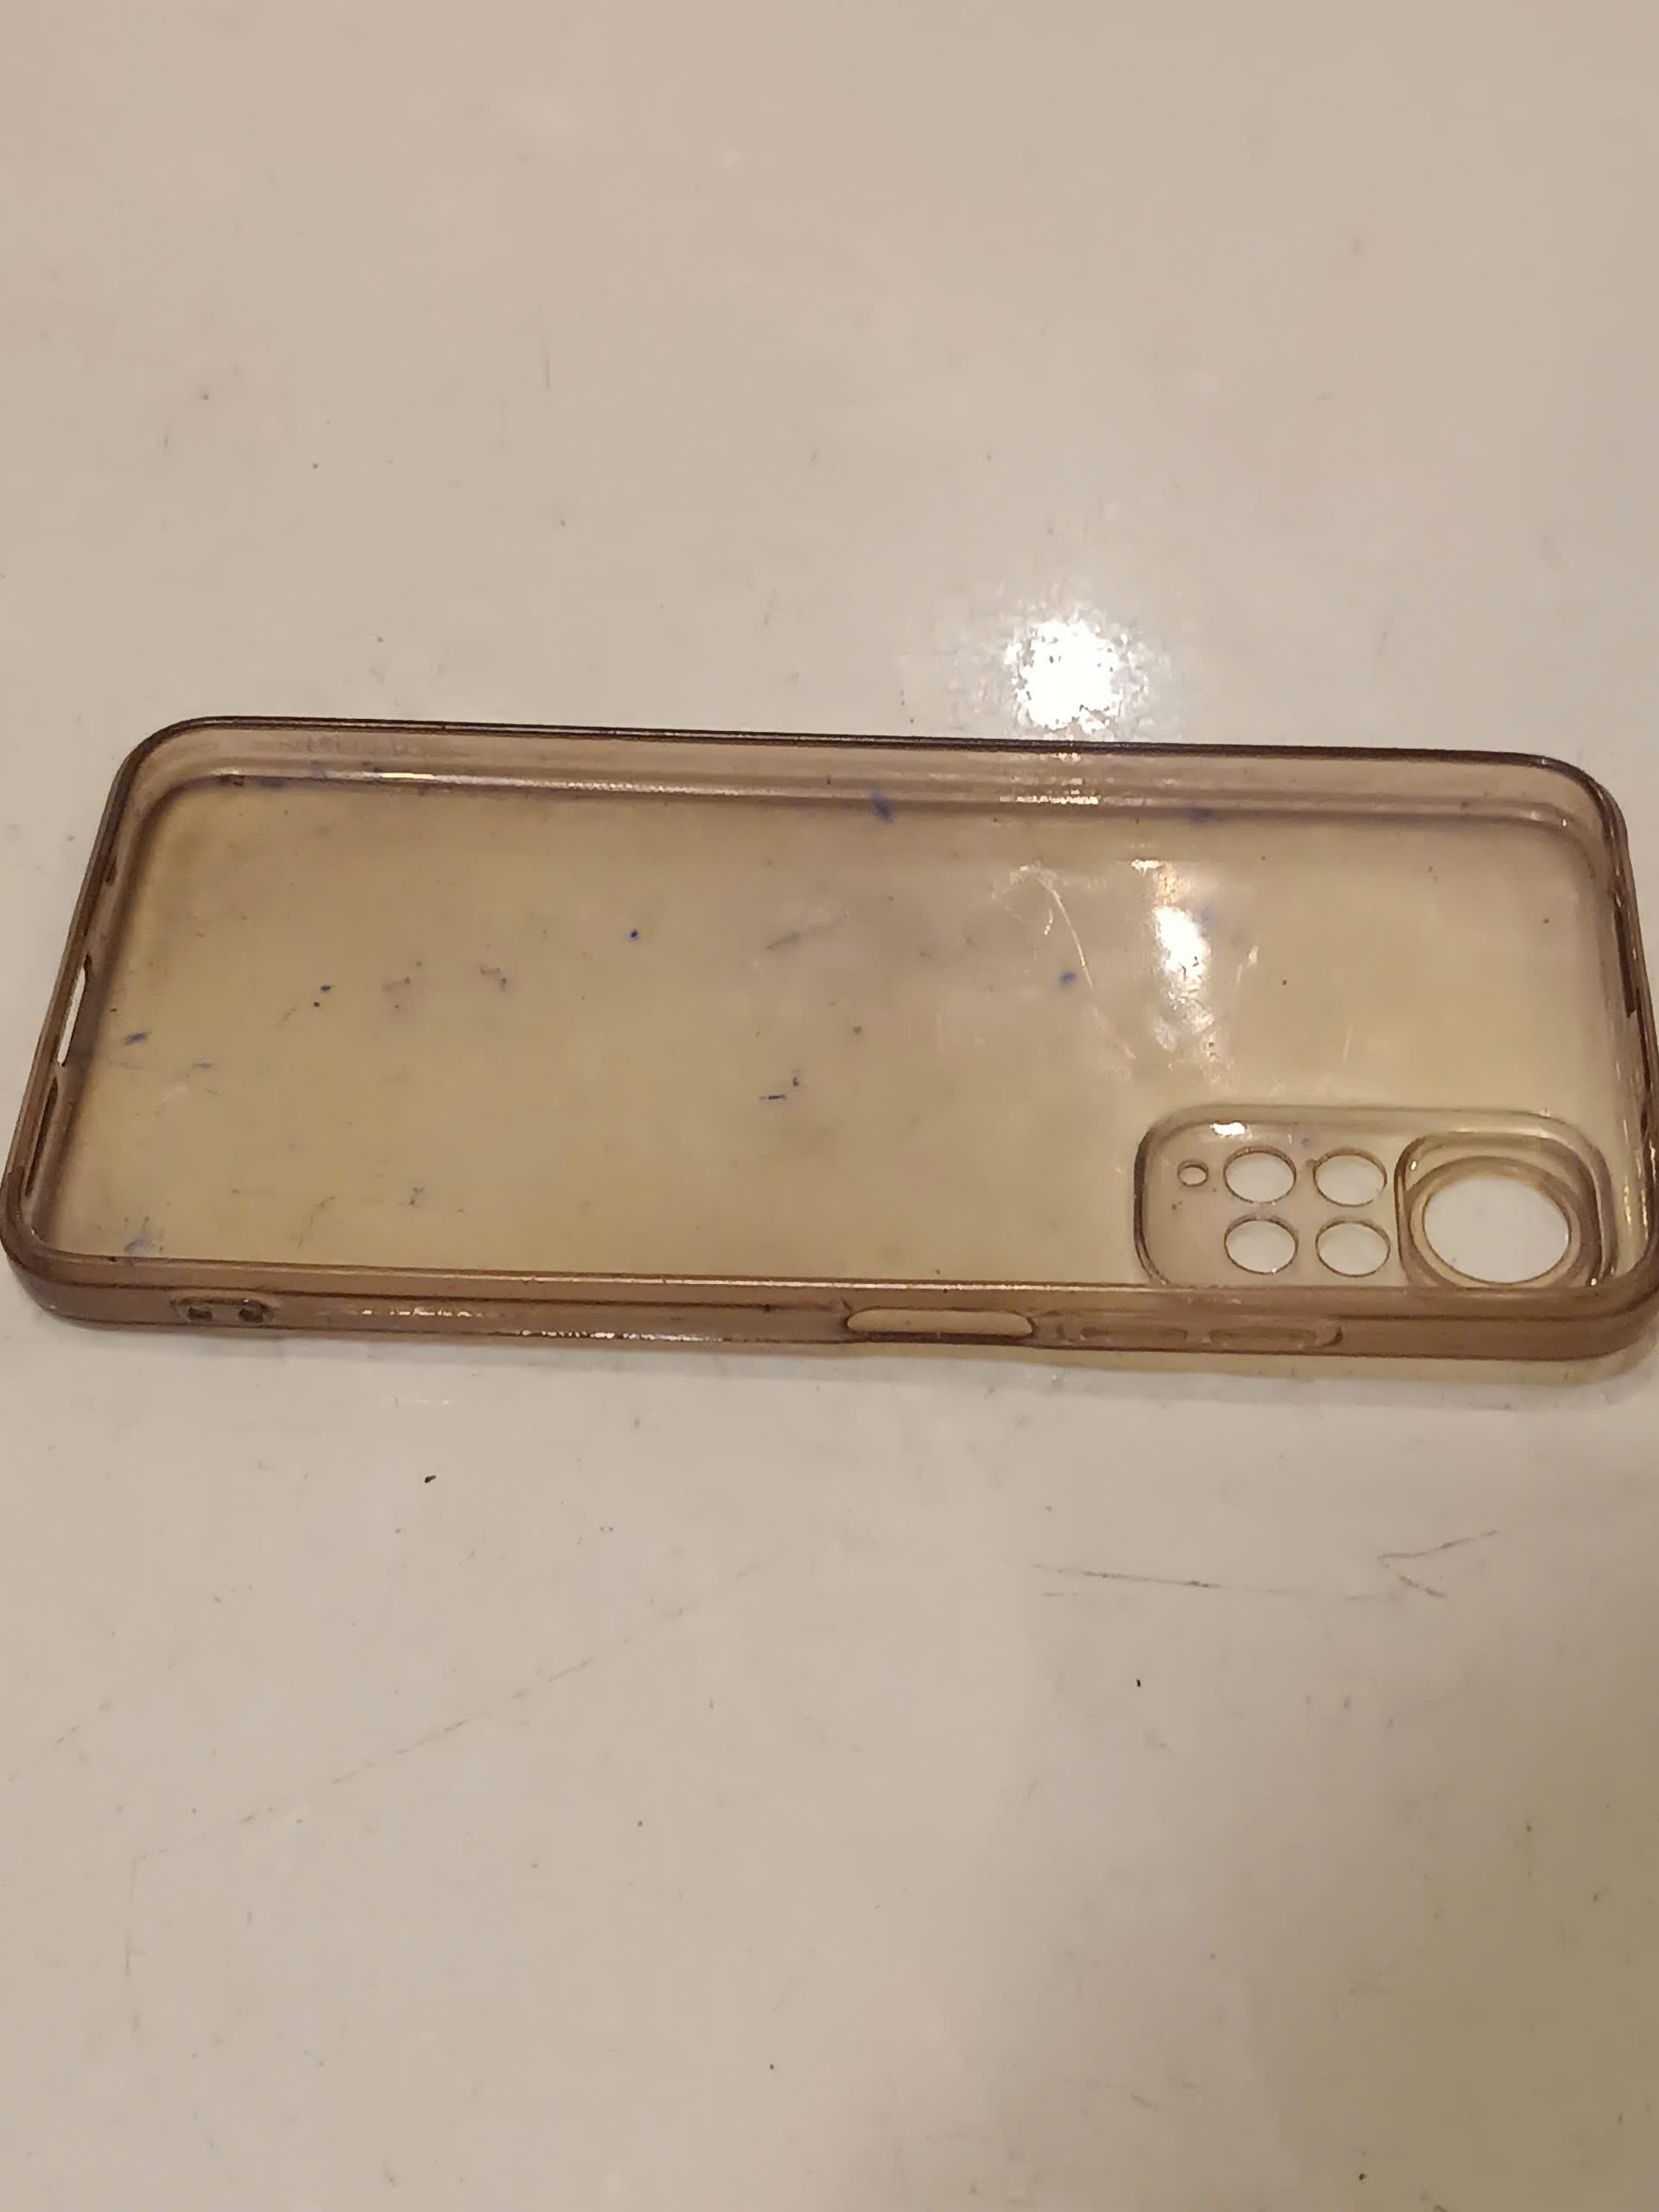Vo co: (0, 714, 1659, 1360)
